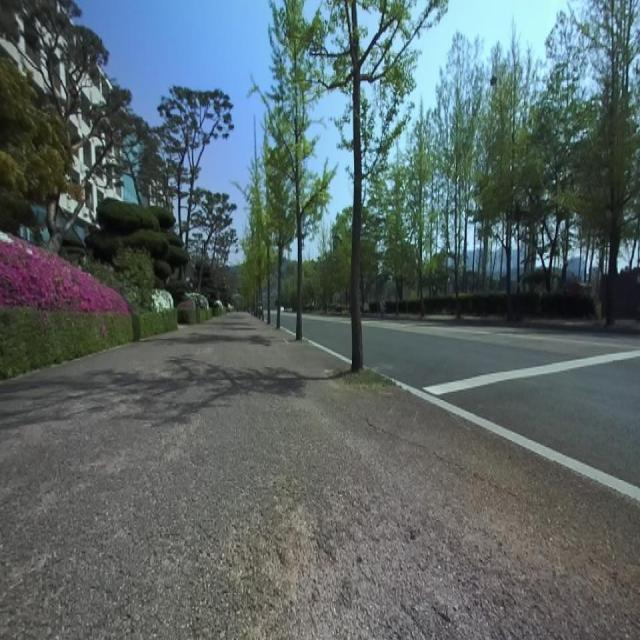sidewalk: (0, 313, 640, 639)
